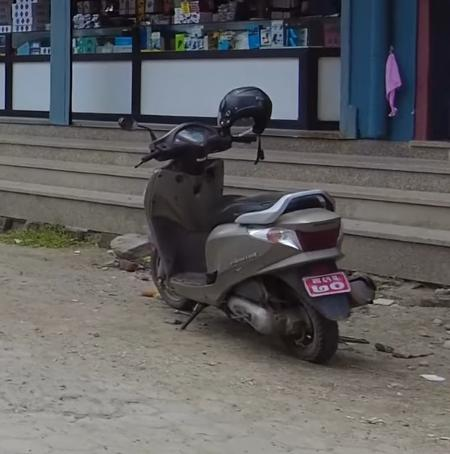scooter: (113, 105, 379, 365)
